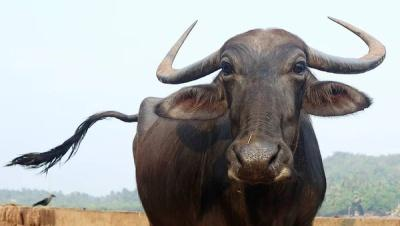buffalo: (85, 16, 388, 226)
